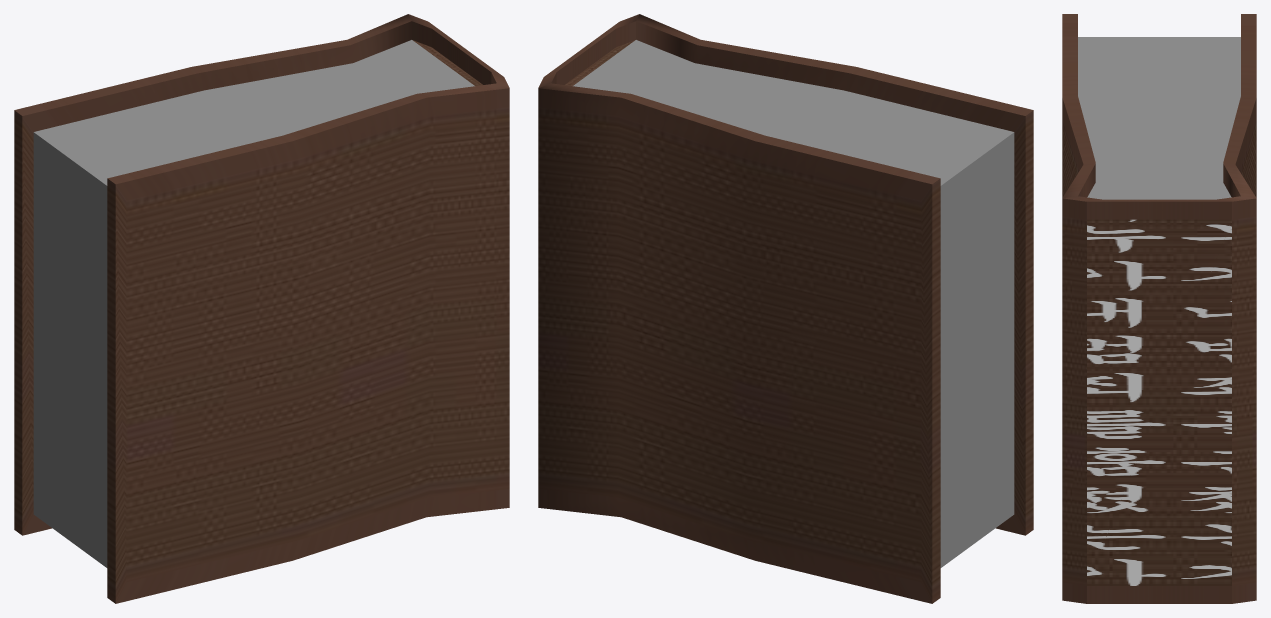
Rendered from book_who.FBX.
3 views of the same model, side by side, from view 1: azimuth 30°, elevation 25°; view 2: azimuth 150°, elevation 25°; view 3: azimuth 270°, elevation 25° (orthographic). The views are drawn at different scales.
Parts seen in each view (by area): view 1: Box002; view 2: Box002; view 3: Box002.
Part boxes in pixels (x1=…): Box002: x1=14, y1=14, x2=509, y2=603; Box002: x1=538, y1=14, x2=1033, y2=603; Box002: x1=1062, y1=14, x2=1256, y2=603.
Bounding box in the file's own units: 30.45 × 13.33 × 30.41.
3 materials, 2 textured.
